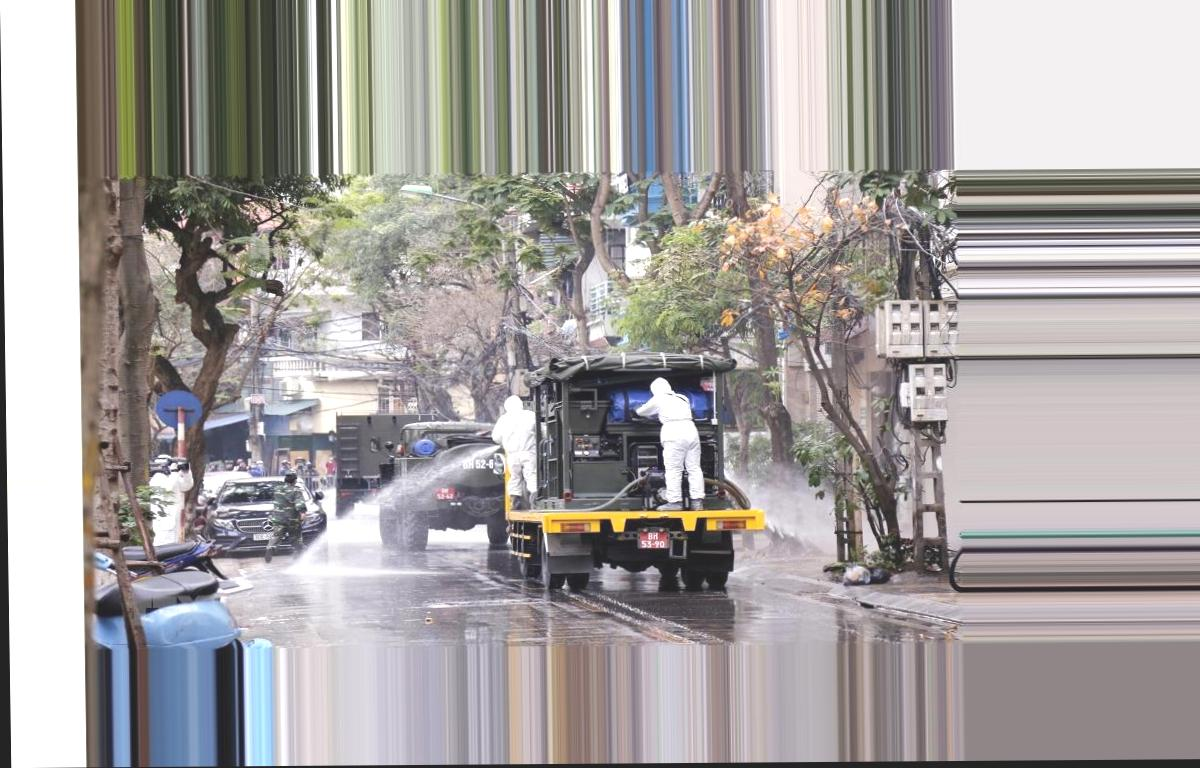License_Plate: (637, 529, 672, 551), (432, 482, 460, 507), (253, 527, 286, 544)
